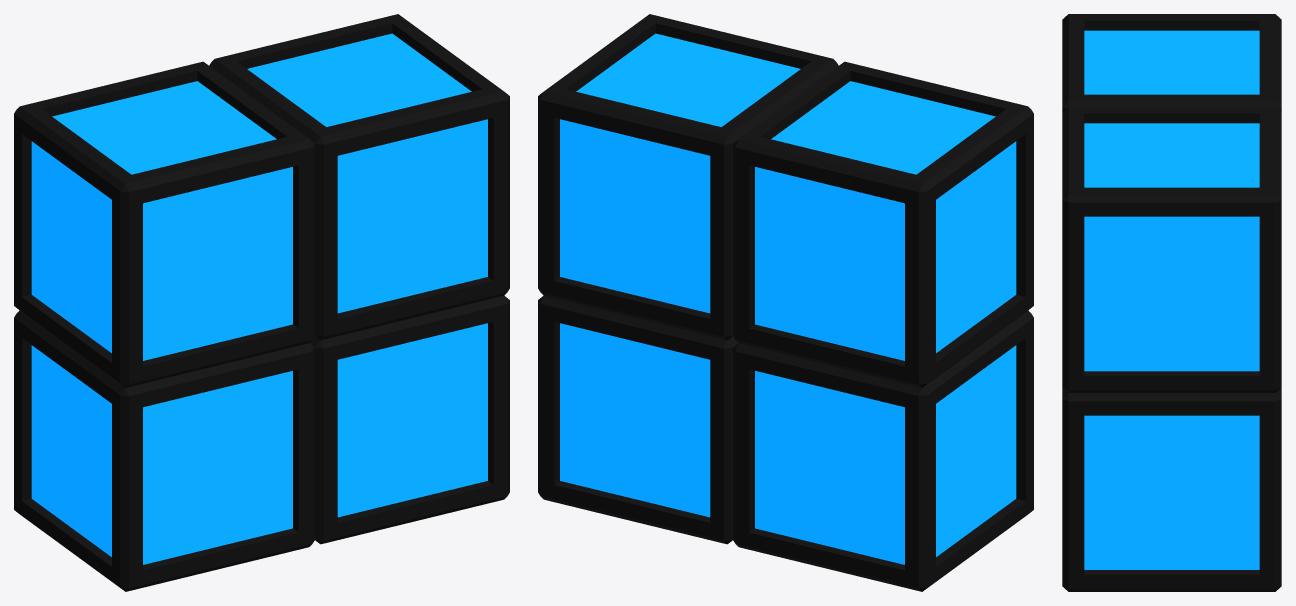
The model's file is OBlockSolid.fbx.
The picture shows the model from 3 angles, left to right: view 1: azimuth 30°, elevation 25°; view 2: azimuth 150°, elevation 25°; view 3: azimuth 270°, elevation 25°; orthographic projection. The views are drawn at different scales.
Visible parts, largest first — view 1: OBlock; view 2: OBlock; view 3: OBlock.
Boxes of the visible parts, x1,y1,x2,y2 form: OBlock: [14, 14, 509, 591]; OBlock: [538, 14, 1033, 591]; OBlock: [1062, 14, 1281, 591].
Bounding box in the file's own units: 400 × 200 × 400.
